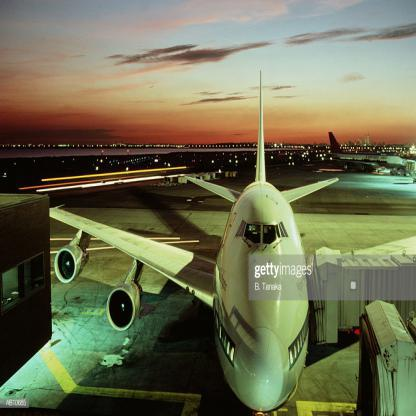CIV_Plane: (45, 69, 365, 415)
